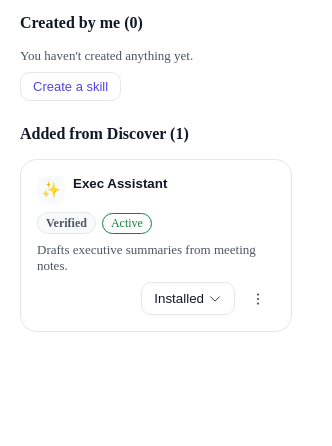
Test: Yours › install-state-consistency round (2026-09-29) › a real (non-NOT_FOUND) uninstall failure surfaces a real error instead of vanishing as an unhandled rejection
Check: the button "Exec Assistant" is shown, box 73,176 -> 275,191
Click the button with test id "detail-installed-trigger" at (188, 298), box 141,282 -> 235,315
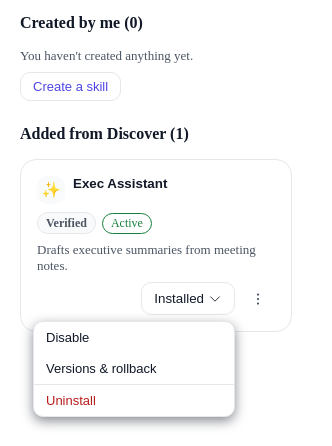
Click the menu item "Uninstall" at (134, 400), box 34,385 -> 234,416
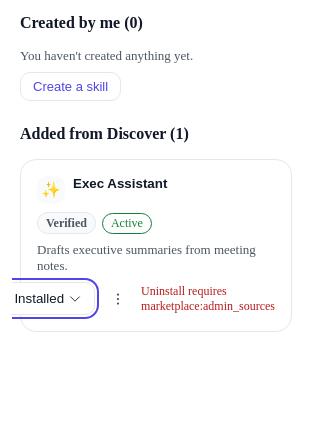
Check: the message with test id "yours-row-action-error" reads "Uninstall requires marketplace:admin_sources", box 141,284 -> 275,312
